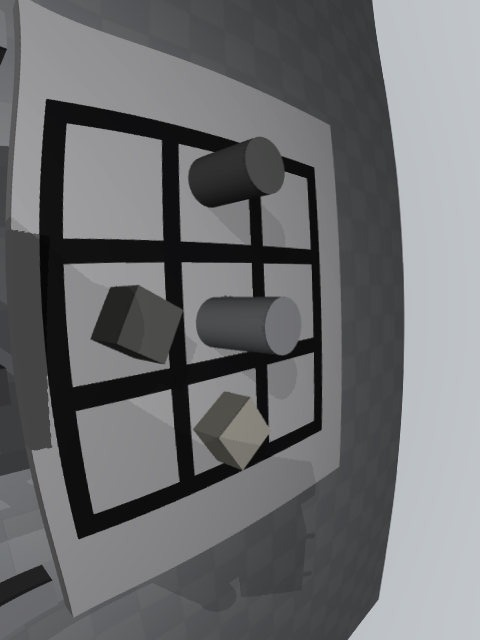can: (196, 297, 302, 355)
cube: (90, 285, 183, 365)
cylinder: (188, 136, 285, 208)
foam: (193, 392, 271, 470)
